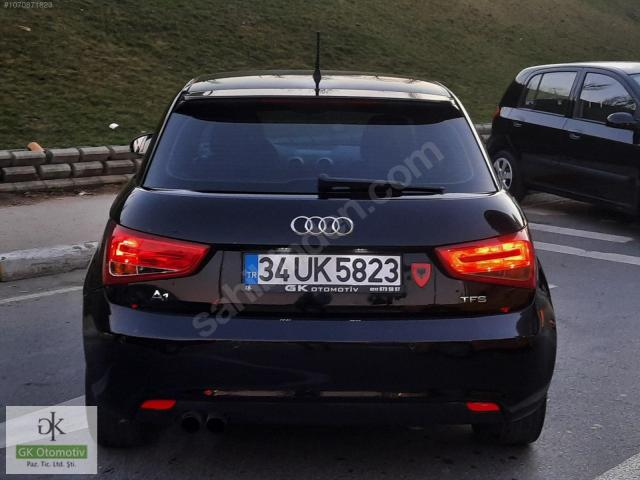plaka: (242, 253, 405, 295)
